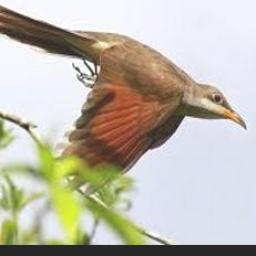Cuckoo: (0, 0, 246, 194)
